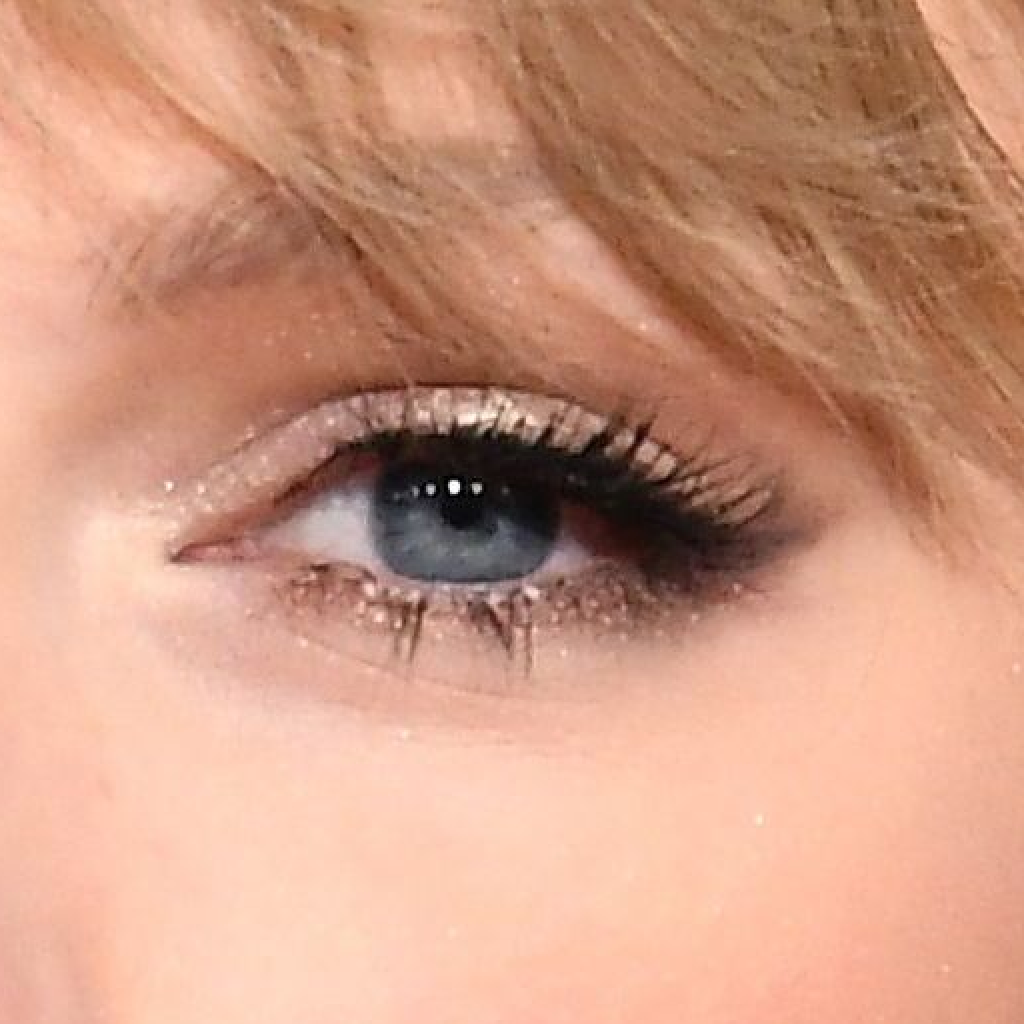iris: (369, 453, 560, 582)
pupil: (440, 484, 485, 528)
sclera: (277, 470, 377, 563), (544, 501, 600, 569)
